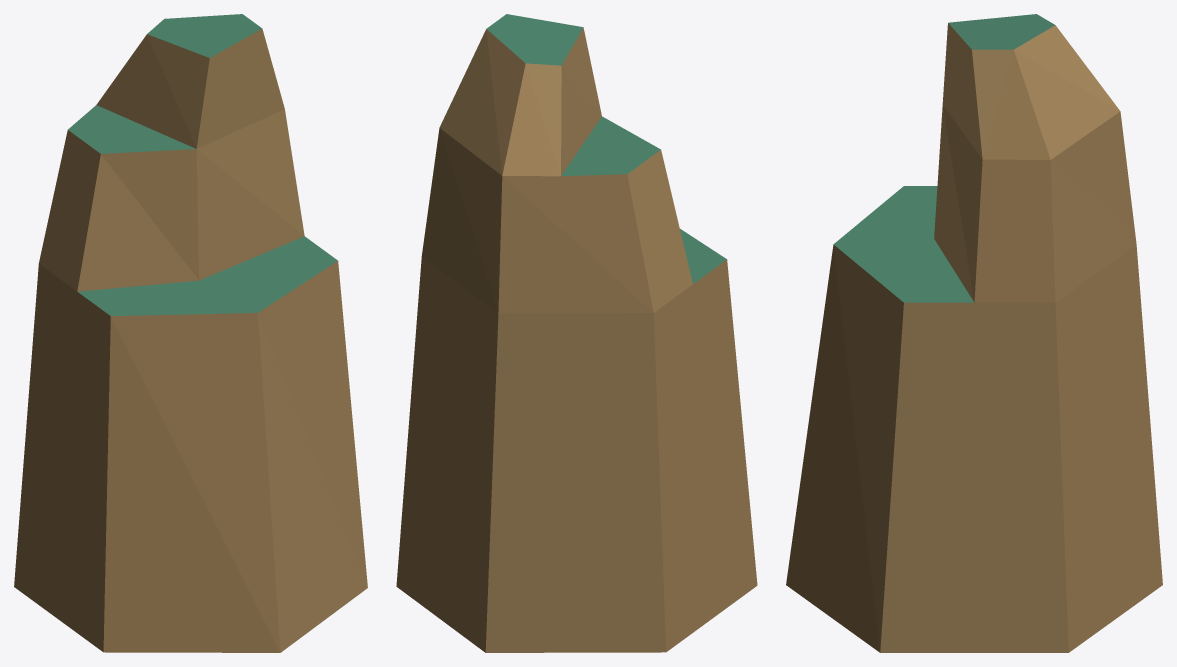
The model's file is Rock_Medium_Mesa_Eroded_Moss_Grass_06.FBX.
3 renders of one model, left to right at view 1: azimuth 30°, elevation 25°; view 2: azimuth 150°, elevation 25°; view 3: azimuth 270°, elevation 25°, orthographic. The views are drawn at different scales.
Visible parts, largest first — view 1: Rock_Medium_Mesa_Eroded_Moss_Grass_06; view 2: Rock_Medium_Mesa_Eroded_Moss_Grass_06; view 3: Rock_Medium_Mesa_Eroded_Moss_Grass_06.
Part boxes in pixels (x1=…): Rock_Medium_Mesa_Eroded_Moss_Grass_06: x1=14, y1=14, x2=367, y2=652; Rock_Medium_Mesa_Eroded_Moss_Grass_06: x1=396, y1=14, x2=757, y2=652; Rock_Medium_Mesa_Eroded_Moss_Grass_06: x1=786, y1=14, x2=1162, y2=652.
Size of the model in its own units: 2241 by 4397 by 2629.
